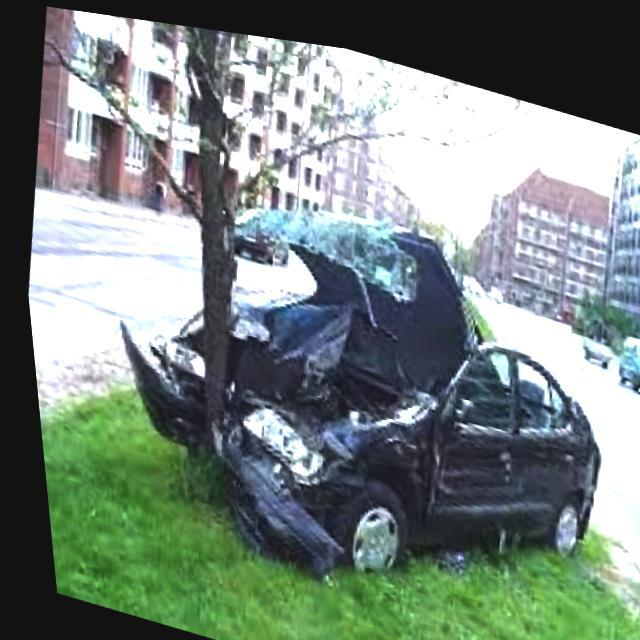Car Accident Detector - v4 Generation1 Exported: (107, 116, 640, 640)
